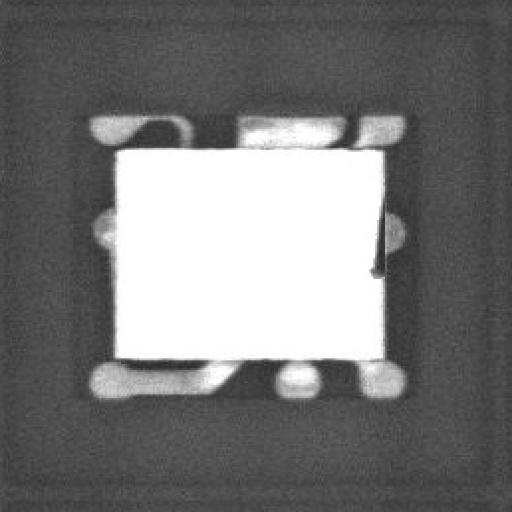DIE_BROKEN: (367, 197, 389, 283)
